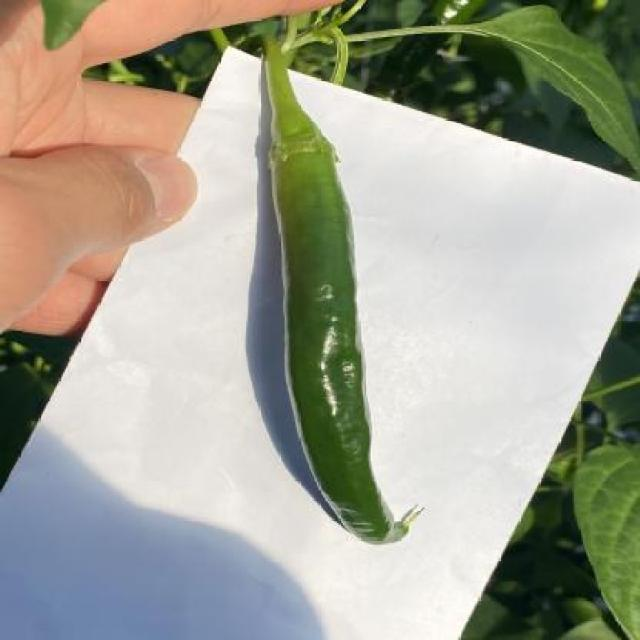green chilli: (271, 152, 409, 546)
